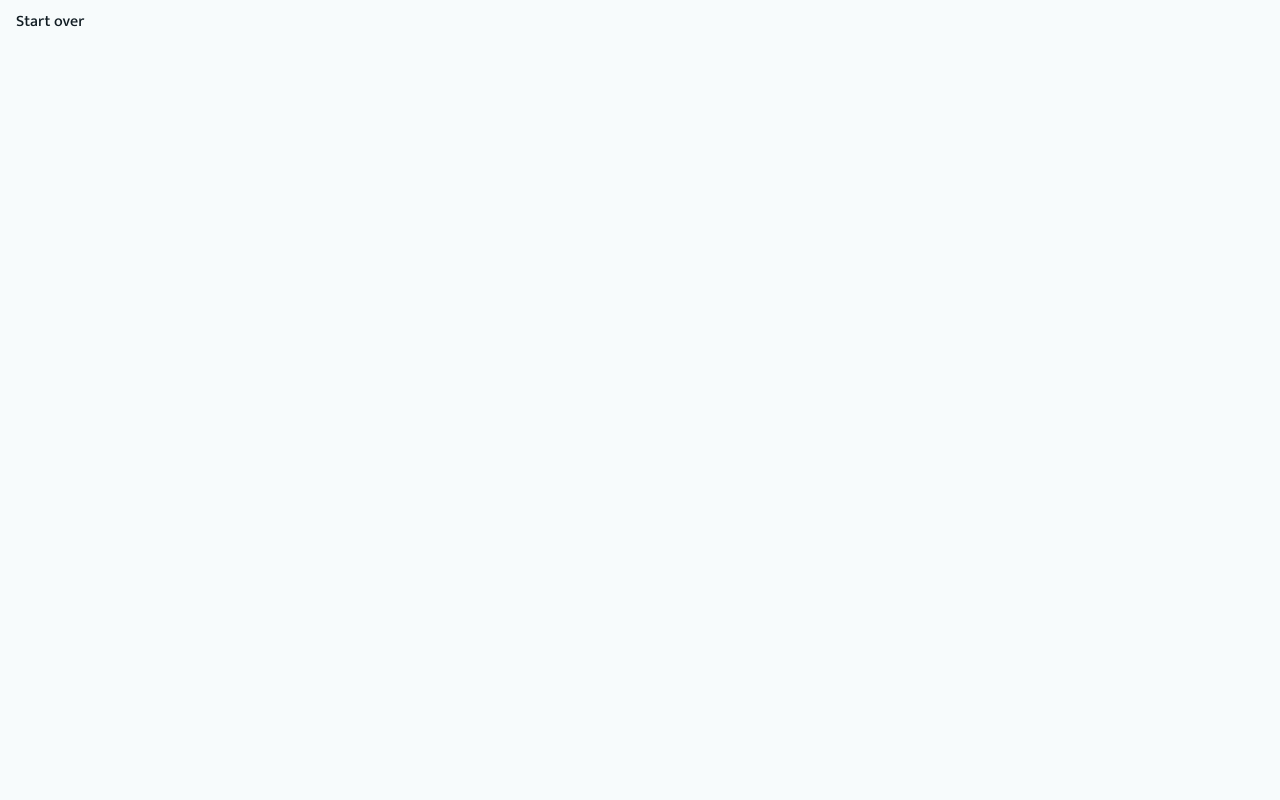
Scenario: StartOver › asks first, then discards the uploaded photos in one request and resets
The width and height of the screenshot is (1280, 800).
Later steps or results of the test are not shown.
Click the button "Start over": (50, 22) [0,0,100,44]
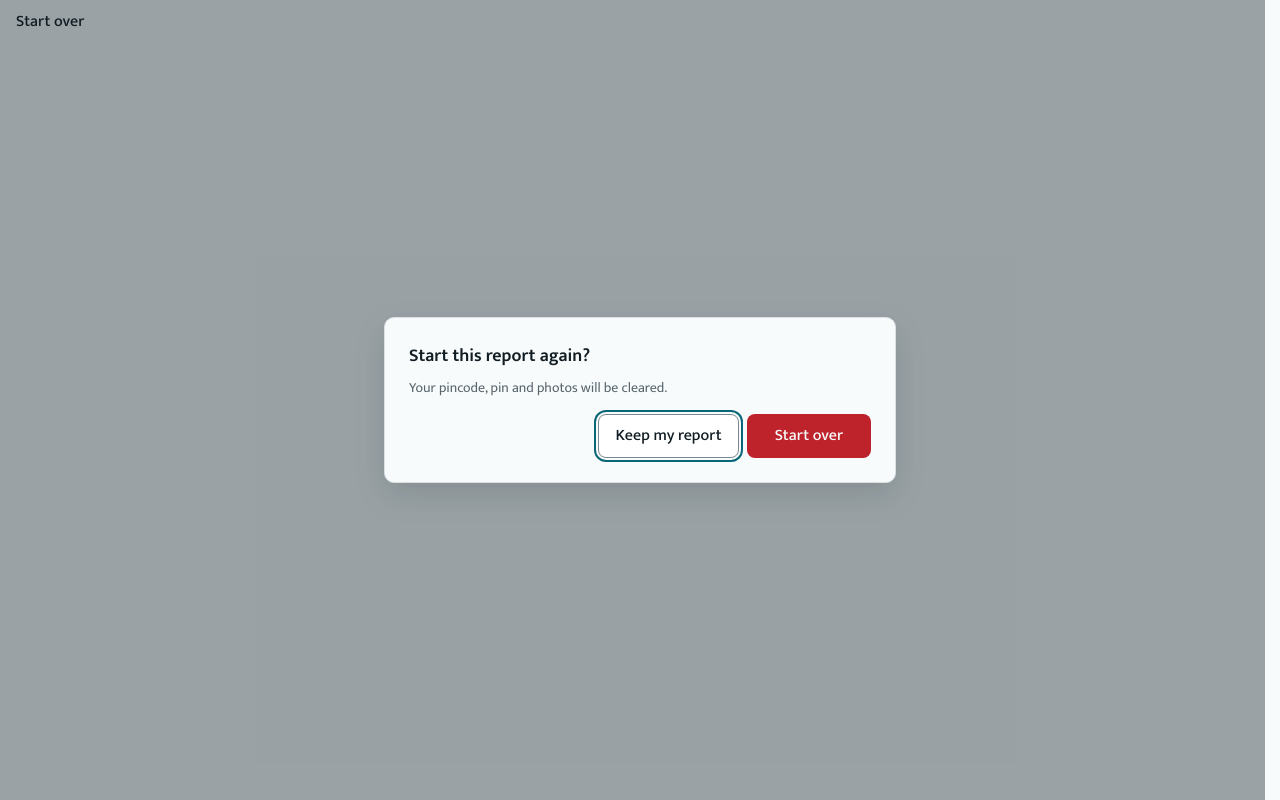
Expected: the dialog "Start this report again?" is shown, [384,317,896,483]
